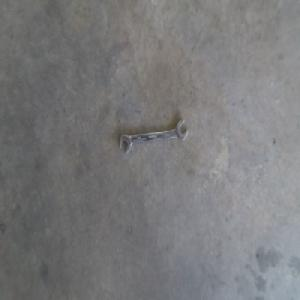Wrench: (119, 119, 190, 153)
